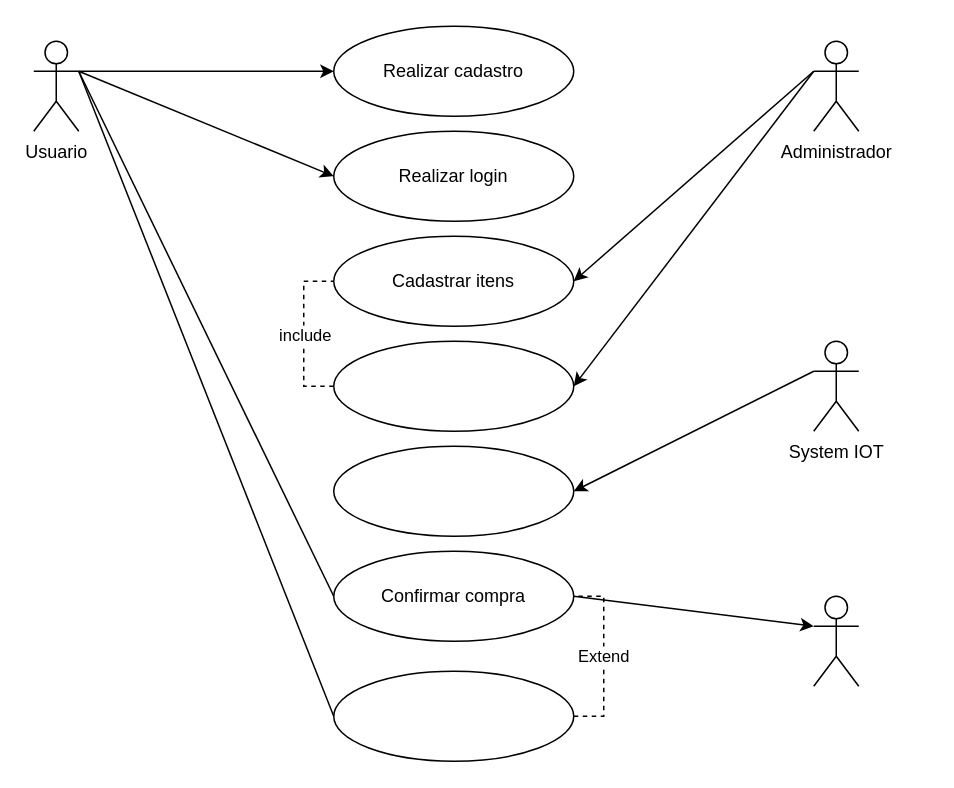
Some shapes in this 954 by 788 pixel diagram are drawn without their labels. Each missing label, with the box of its shape:
<<Sistema>> Sistema de pagamento: (812, 595, 859, 686)
Adicionar itens ao carrinho: (332, 670, 574, 761)
Enviar alerta de estoque baixo: (332, 445, 574, 536)
Gerenciar itens: (332, 340, 574, 431)
